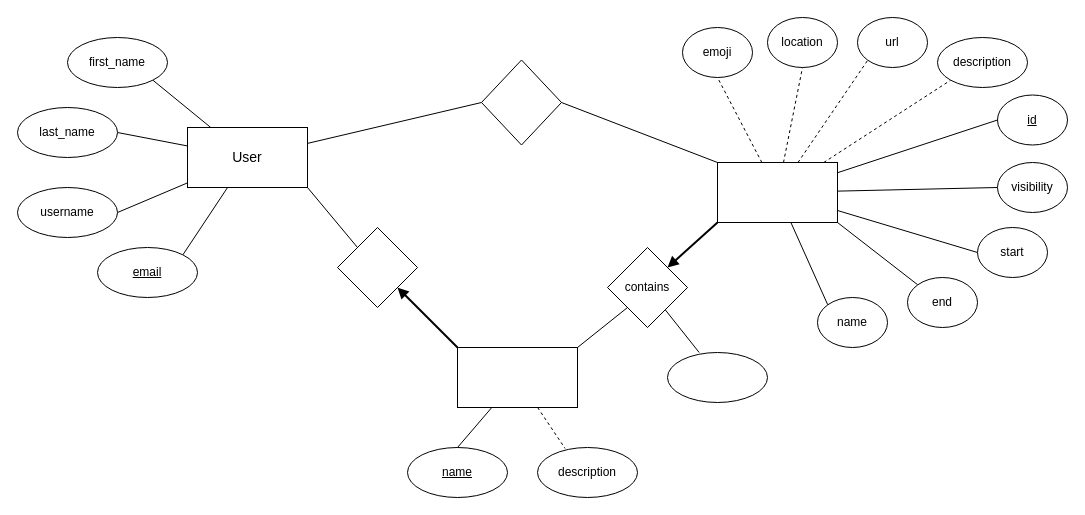
This 1085x515 diagram has some shape labels left out. Here are the shapes that lost their labels. From the top down, the box of each, then its label:
(480, 59, 562, 145): keened
(716, 162, 838, 222): Event
(336, 226, 418, 308): stores
(456, 346, 578, 408): Collection
(666, 352, 768, 402): date_added
